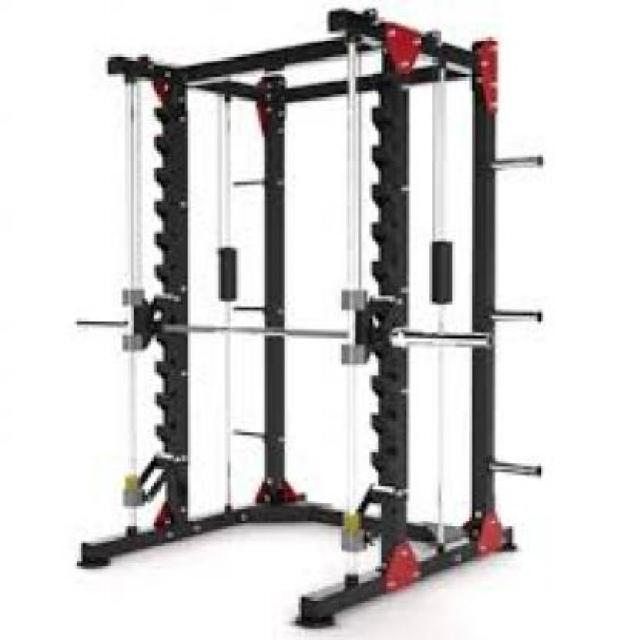smith machine: (75, 8, 543, 629)
